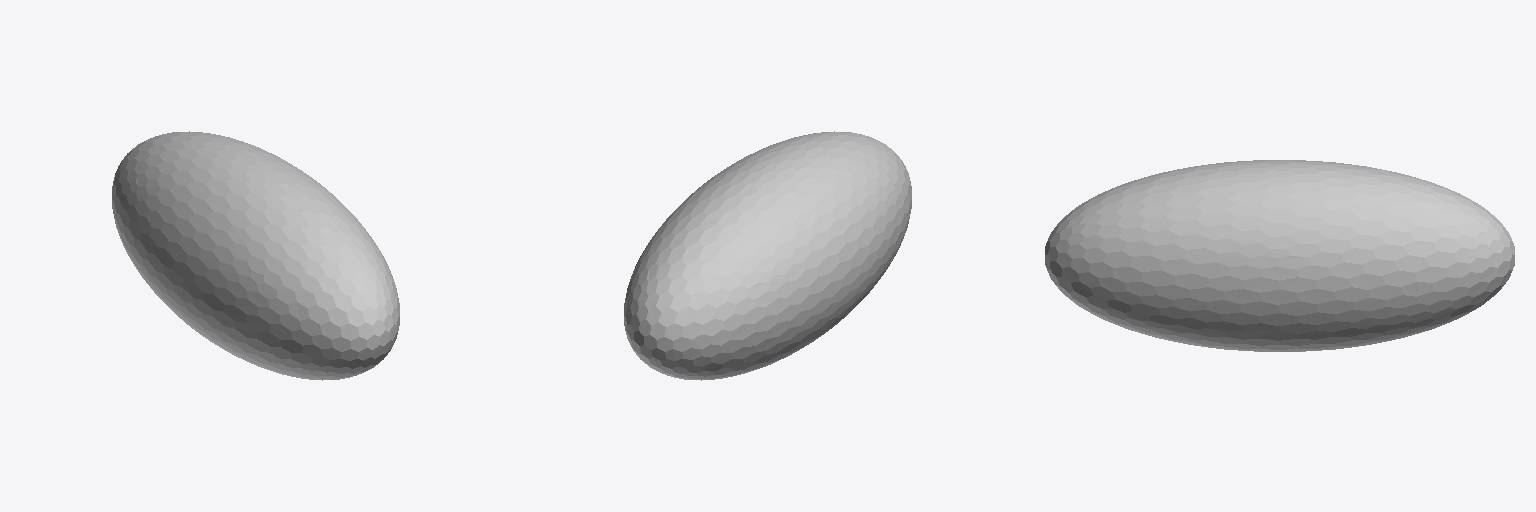
File: elipsoid.t1.obj
3 renders of one model, left to right at view 1: azimuth 30°, elevation 25°; view 2: azimuth 150°, elevation 25°; view 3: azimuth 270°, elevation 25°, orthographic.
Visible parts, largest first — view 1: Icosphere; view 2: Icosphere; view 3: Icosphere.
Boxes of the visible parts, <box> form: Icosphere: <box>112,131,399,380</box>; Icosphere: <box>624,131,911,380</box>; Icosphere: <box>1045,160,1514,351</box>.
Size of the model in its own units: 1.98 by 1.99 by 4.87.